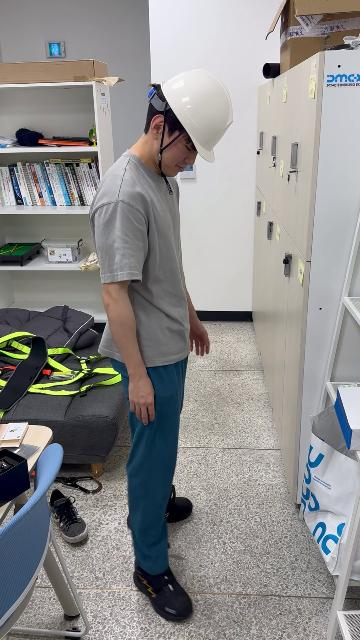helmet_worn: (160, 69, 233, 161)
shoe_not_worn: (48, 488, 89, 544)
shoe_worn: (133, 560, 192, 622), (165, 484, 192, 523)
vest_not_worn: (87, 158, 198, 373)
